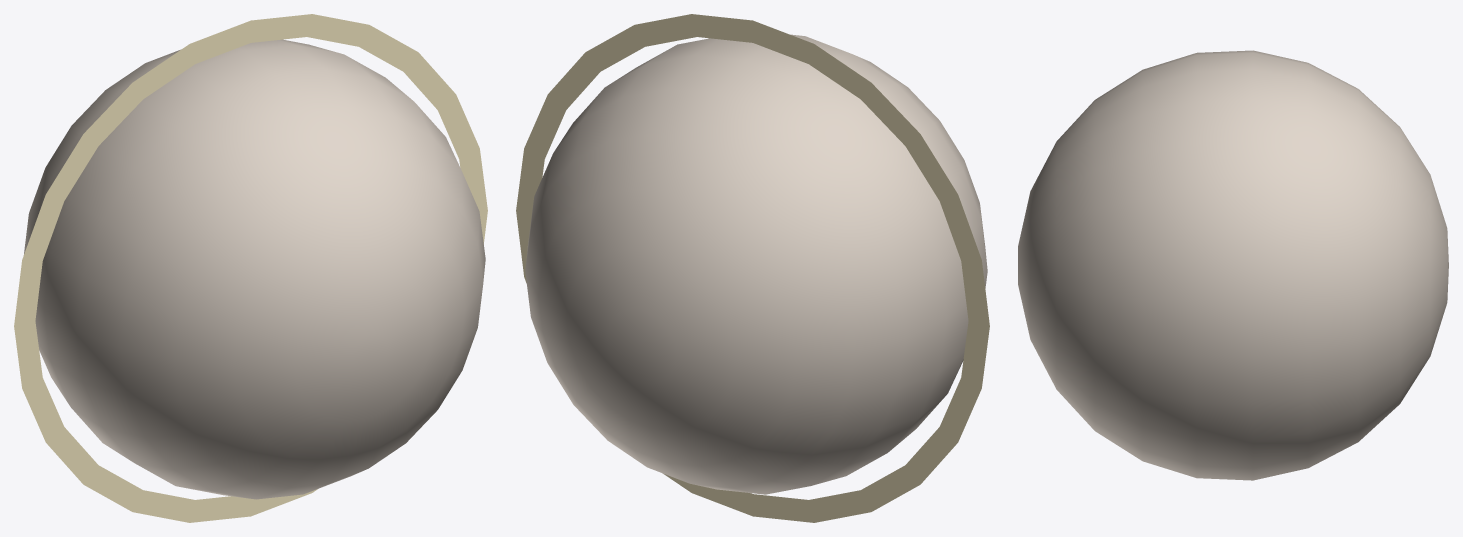
File: saturn.dae
3 views of the same model, side by side, from view 1: azimuth 30°, elevation 25°; view 2: azimuth 150°, elevation 25°; view 3: azimuth 270°, elevation 25° (orthographic). The views are drawn at different scales.
Parts seen in each view (by area): view 1: group_0, group_0_001; view 2: group_0, group_0_001; view 3: group_0.
Boxes of the visible parts, left/top/right/bottom form: group_0: left=24, top=39, right=485, bottom=499; group_0_001: left=14, top=14, right=487, bottom=522; group_0: left=525, top=34, right=987, bottom=494; group_0_001: left=516, top=14, right=989, bottom=522; group_0: left=1018, top=50, right=1448, bottom=480.
Bounding box in the file's own units: 60.36 × 50.91 × 60.36.
